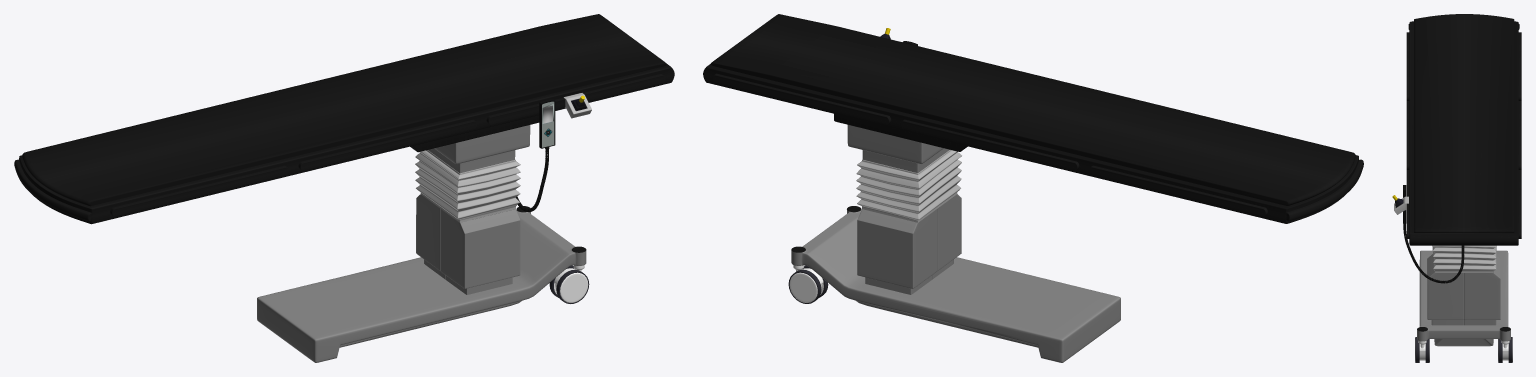
The model's file is bed.glb.
3 renders of one model, left to right at view 1: azimuth 30°, elevation 25°; view 2: azimuth 150°, elevation 25°; view 3: azimuth 270°, elevation 25°, orthographic. The views are drawn at different scales.
Visible parts, largest first — view 1: Object_5, Object_9, Object_11, Object_10, Object_12, Object_8, Object_13; view 2: Object_5, Object_9, Object_11, Object_10, Object_12, Object_8; view 3: Object_5, Object_11, Object_10, Object_9, Object_12, Object_2, Object_13, Object_8, Object_14, Object_15, Object_6.
Boxes of the visible parts, box(x1,y1,x2,y2) form: Object_5: box(22, 14, 666, 206); Object_9: box(257, 125, 586, 362); Object_11: box(14, 64, 674, 252); Object_10: box(416, 194, 520, 294); Object_12: box(415, 150, 520, 222); Object_8: box(554, 265, 588, 302); Object_13: box(516, 99, 555, 211); Object_5: box(711, 14, 1355, 205); Object_9: box(791, 125, 1120, 362); Object_11: box(703, 64, 1363, 252); Object_10: box(857, 194, 961, 294); Object_12: box(856, 150, 961, 222); Object_8: box(789, 265, 823, 302); Object_5: box(1414, 14, 1514, 232); Object_11: box(1406, 21, 1521, 331); Object_10: box(1427, 254, 1500, 325); Object_9: box(1417, 250, 1510, 346); Object_12: box(1432, 245, 1496, 272); Object_2: box(1415, 337, 1512, 362); Object_13: box(1403, 185, 1464, 283); Object_8: box(1415, 338, 1512, 361); Object_14: box(1403, 224, 1464, 283); Object_15: box(1403, 225, 1464, 282); Object_6: box(1394, 196, 1408, 214).
Bounding box in the file's own units: 94.08 × 33.07 × 23.29.
Materials: 12 (8 with a texture image).
